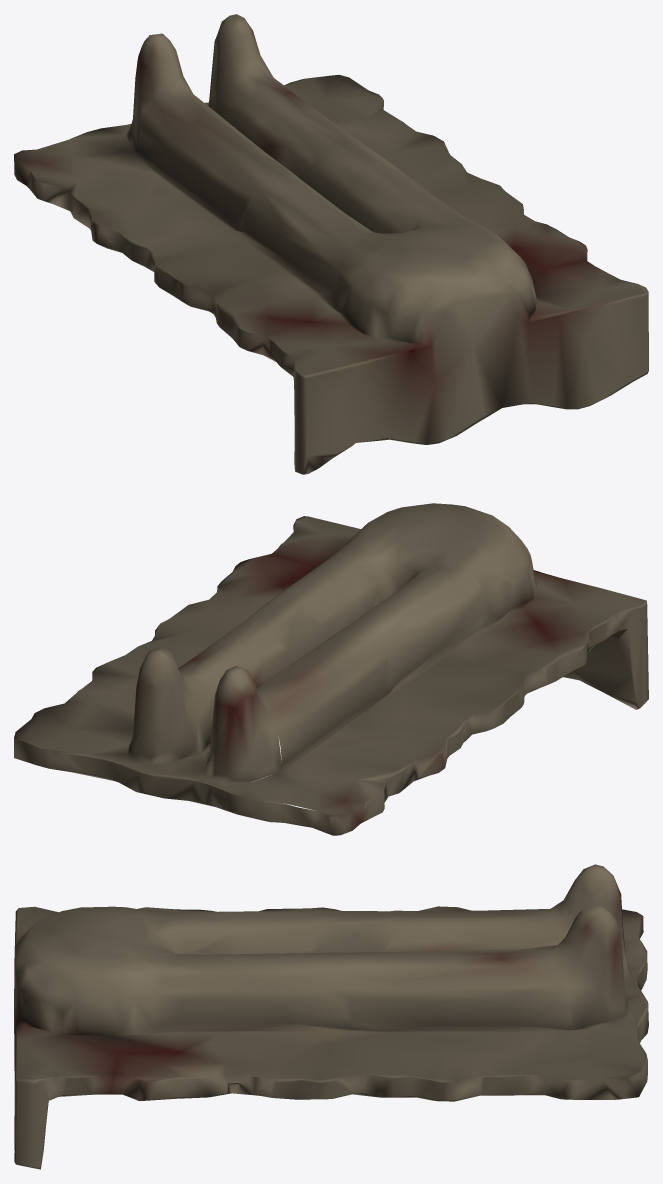
File: dead_lower.glb
3 renders of one model, top to bottom at view 1: azimuth 30°, elevation 25°; view 2: azimuth 150°, elevation 25°; view 3: azimuth 270°, elevation 25°, orthographic. The views are drawn at different scales.
Parts seen in each view (by area): view 1: dead_lower; view 2: dead_lower; view 3: dead_lower.
Part boxes in pixels (<box>): dead_lower: <box>14,14,648,474</box>; dead_lower: <box>14,503,648,835</box>; dead_lower: <box>14,864,648,1169</box>.
Bounding box in the file's own units: 0.7196 × 0.4112 × 1.09.
